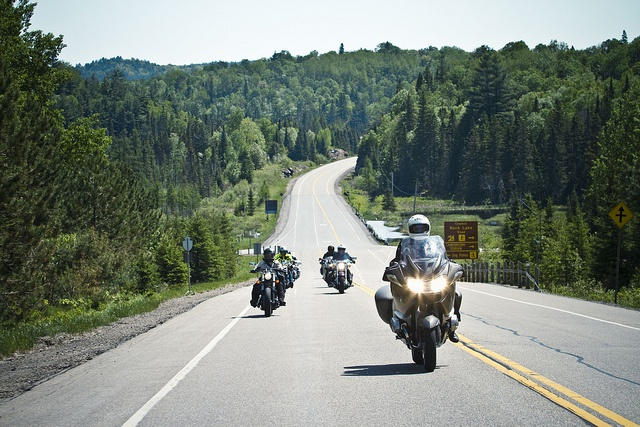non-vehicle: (384, 233, 457, 371), (256, 268, 280, 316), (330, 260, 354, 293), (321, 255, 334, 288), (281, 260, 290, 288), (290, 261, 301, 278), (286, 260, 291, 266)
